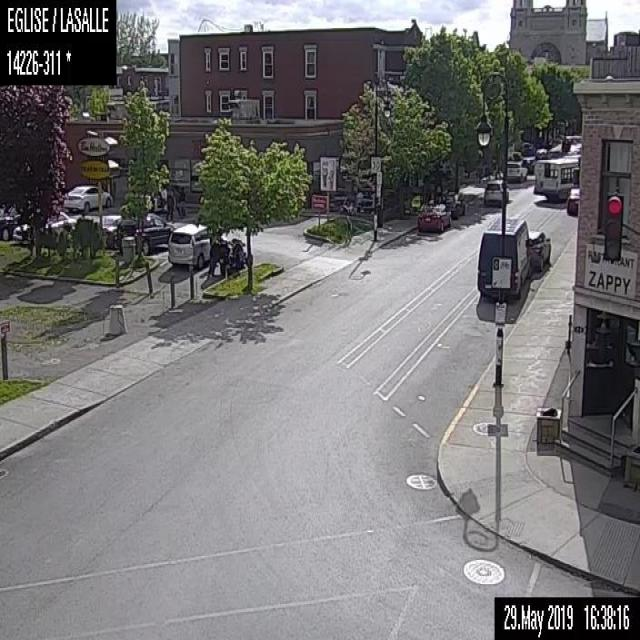bus: (531, 155, 579, 202)
pedestrian: (164, 185, 175, 222), (176, 183, 187, 218)
vehicle: (476, 215, 531, 300), (116, 211, 174, 255), (12, 209, 77, 243), (168, 220, 210, 267), (61, 180, 112, 214), (208, 236, 244, 276), (527, 226, 551, 275), (416, 201, 451, 233), (436, 191, 466, 221), (0, 208, 24, 239), (483, 177, 509, 204), (507, 158, 528, 184), (566, 186, 578, 216)
